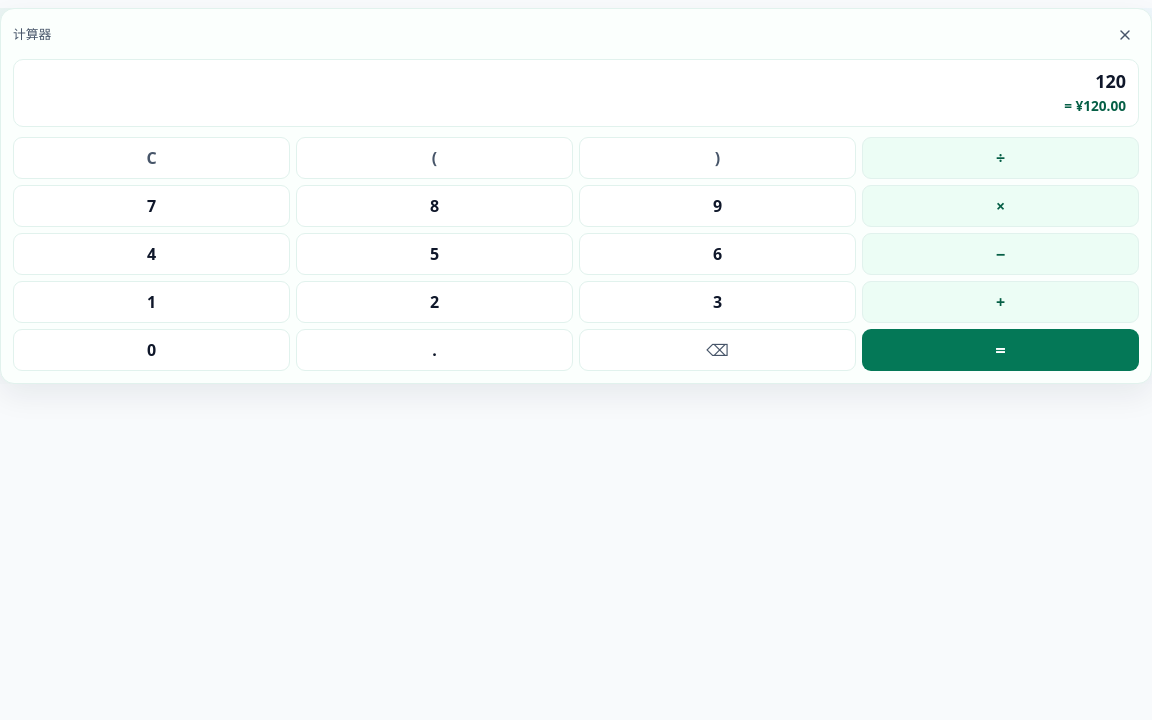
Test: CalculatorPanel › clears and deletes characters
The width and height of the screenshot is (1152, 720).
Click the button named "退格". click: click(718, 350)
box: left=579, top=329, right=856, bottom=371
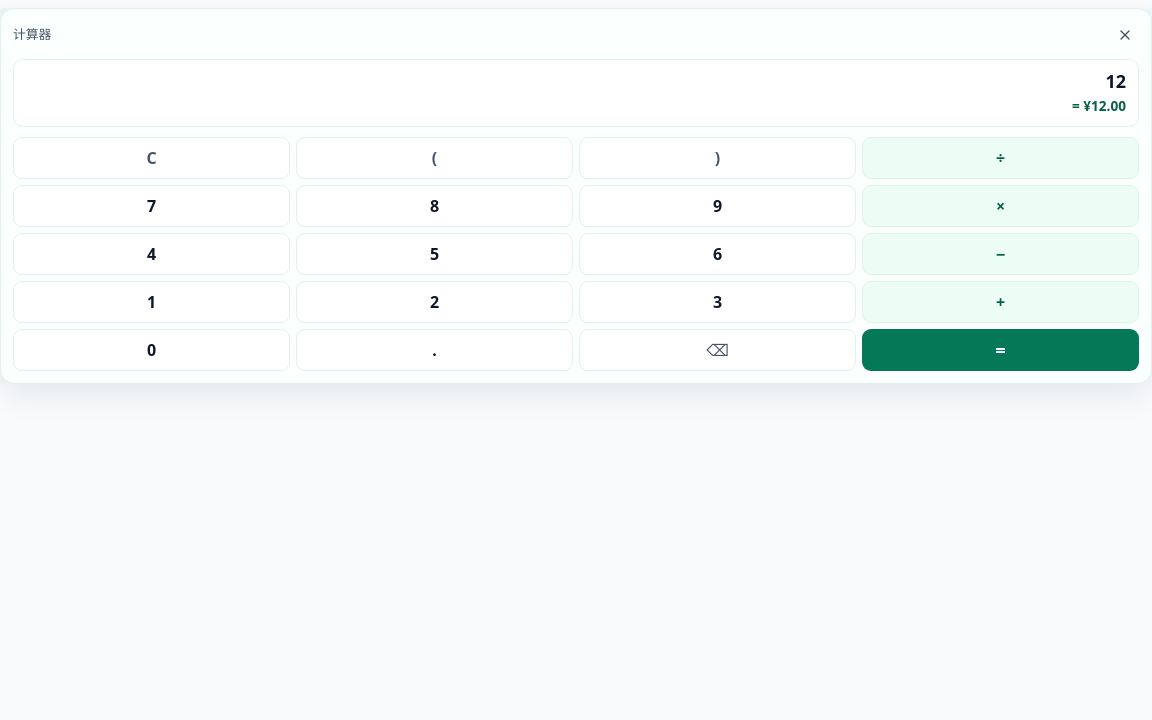
Now the text named "计算器表达式" reads "12", box left=1106, top=69, right=1126, bottom=93
Click the button named "清空". click: click(152, 158)
box: left=13, top=137, right=290, bottom=179
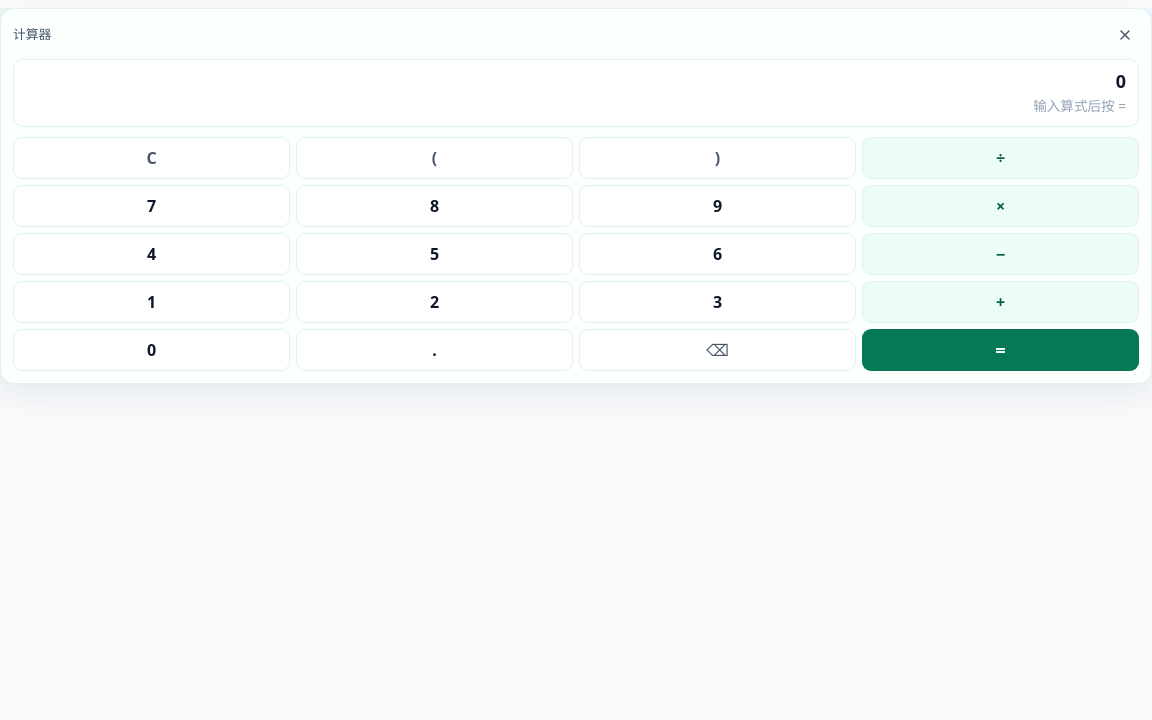
Now the text named "计算器表达式" reads "0", box left=1116, top=69, right=1126, bottom=93
